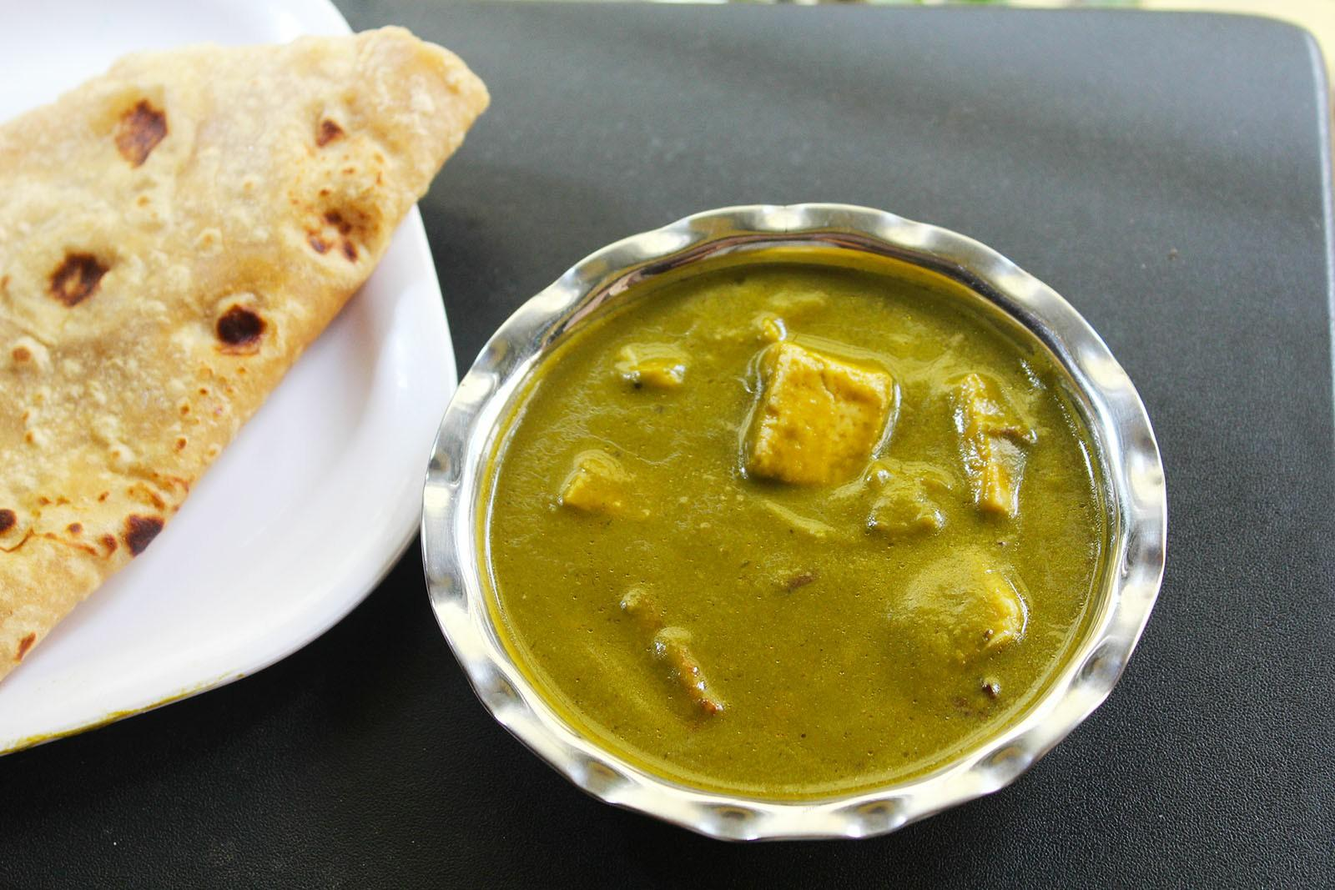PalakPaneer: (489, 263, 1100, 797)
